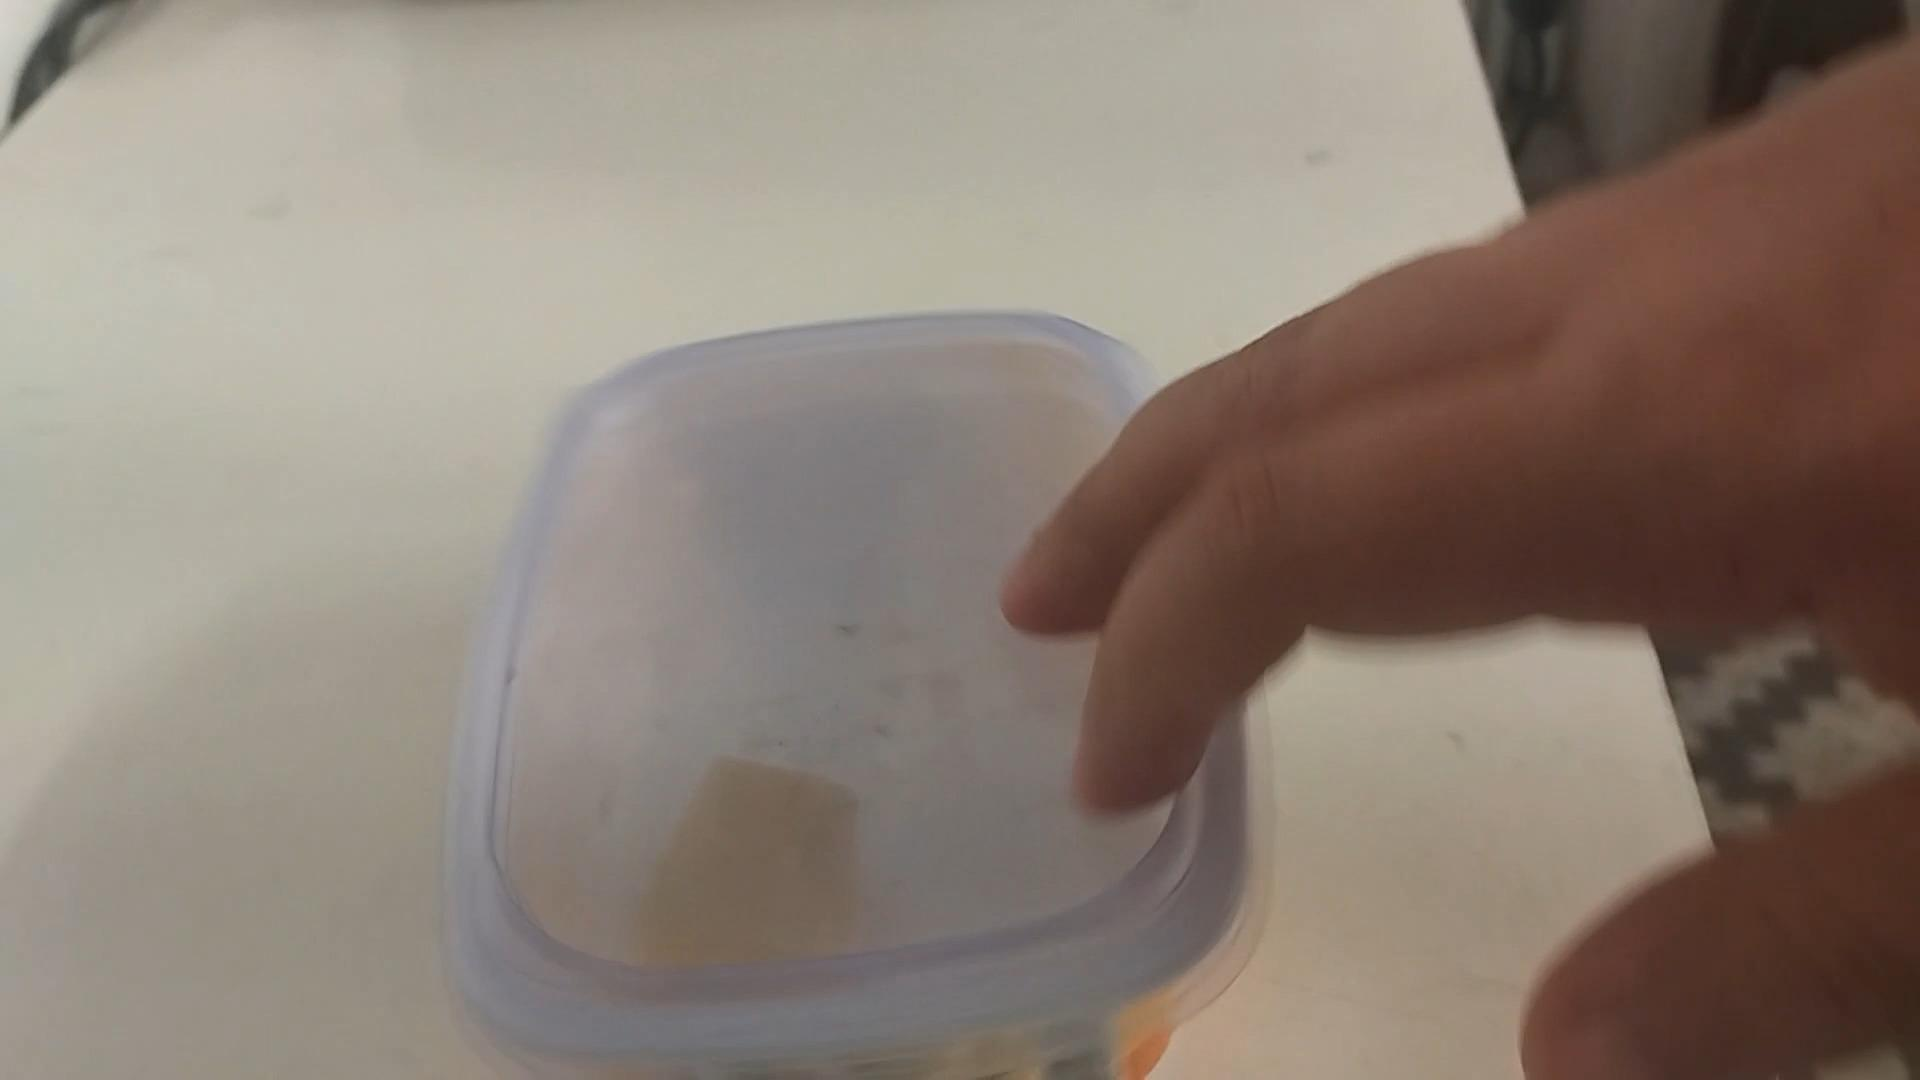butter: (438, 311, 1261, 1076)
